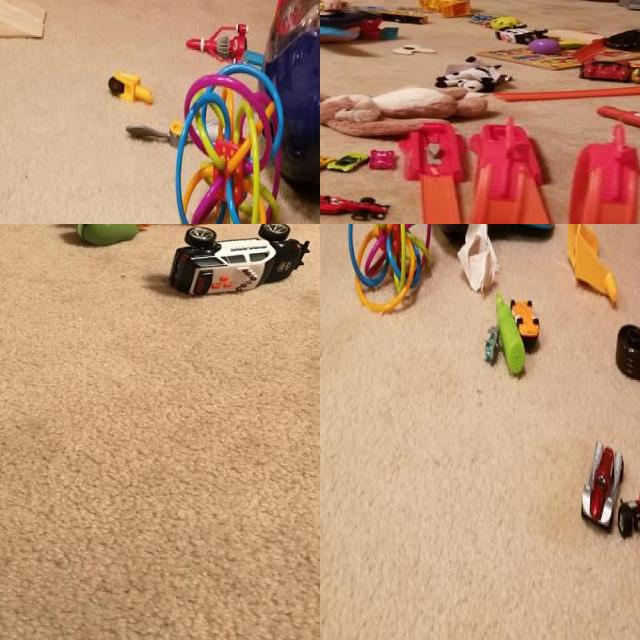toy: (159, 224, 316, 306), (258, 0, 320, 199), (320, 79, 476, 128), (351, 224, 430, 310), (555, 224, 623, 310), (574, 428, 623, 532), (185, 17, 251, 69), (495, 288, 529, 375), (320, 185, 393, 223), (104, 58, 153, 114), (619, 469, 640, 599), (436, 62, 517, 94), (510, 280, 540, 344), (69, 224, 143, 243), (612, 330, 640, 378), (416, 0, 470, 19), (479, 322, 501, 366), (488, 25, 543, 41), (389, 42, 432, 57), (329, 152, 361, 170), (371, 149, 395, 171), (492, 15, 521, 30)
